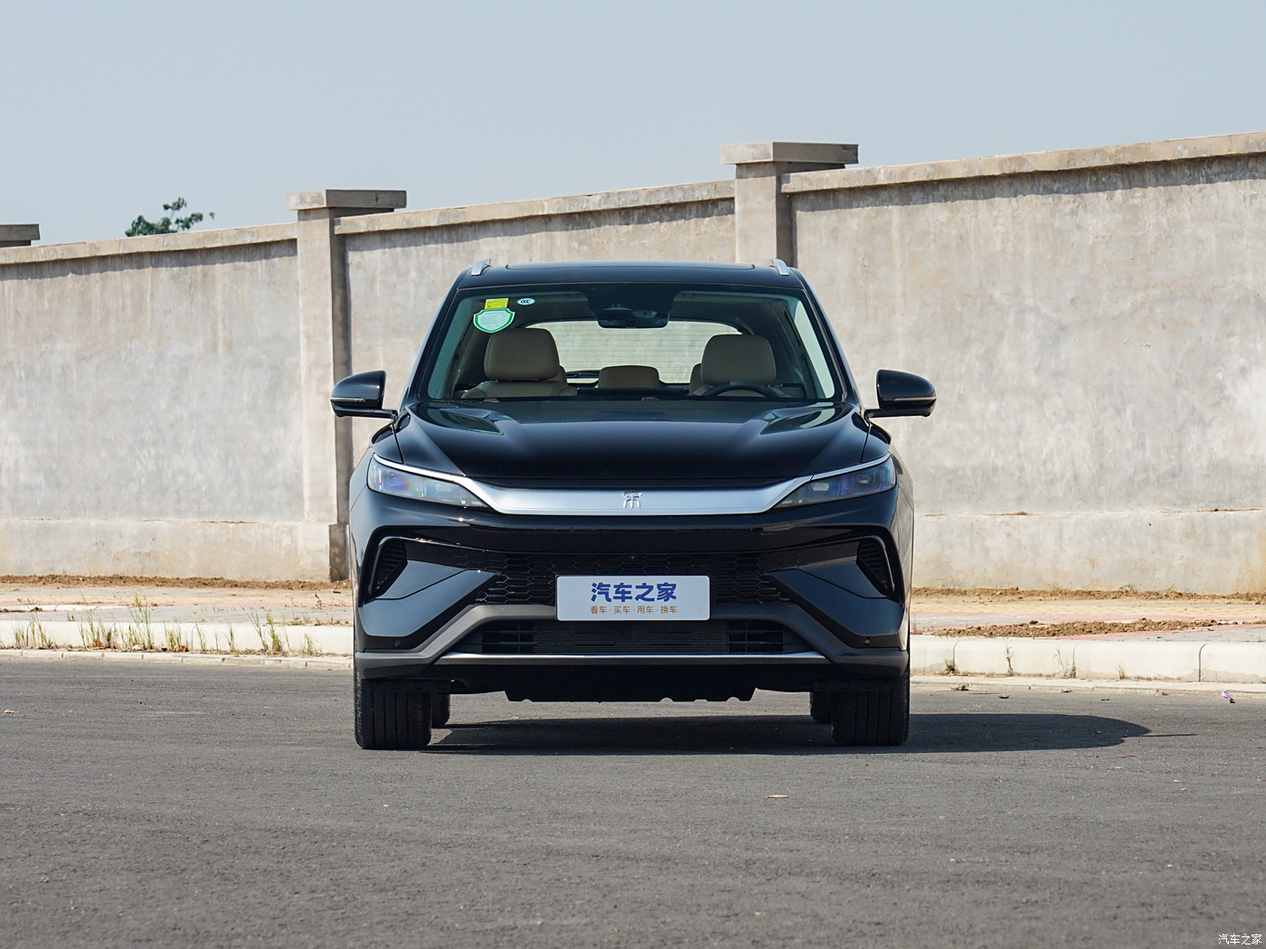BYD Song: (623, 488, 642, 508)
